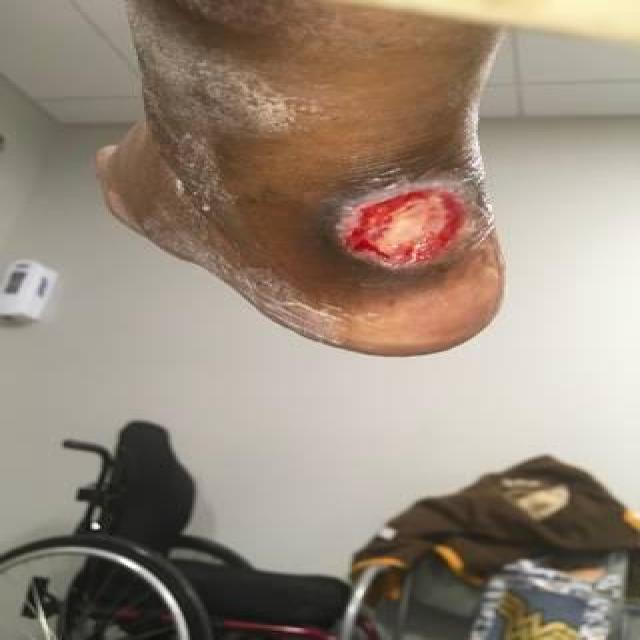stage-3: (345, 189, 467, 266)
